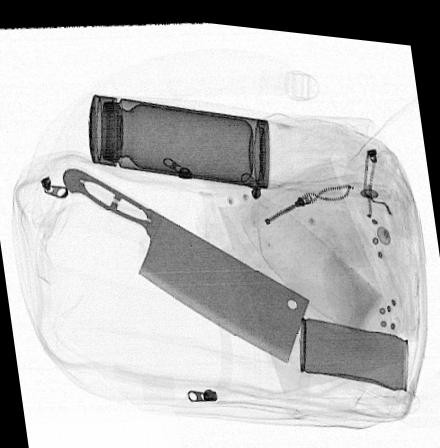Knife: (63, 167, 310, 358)
